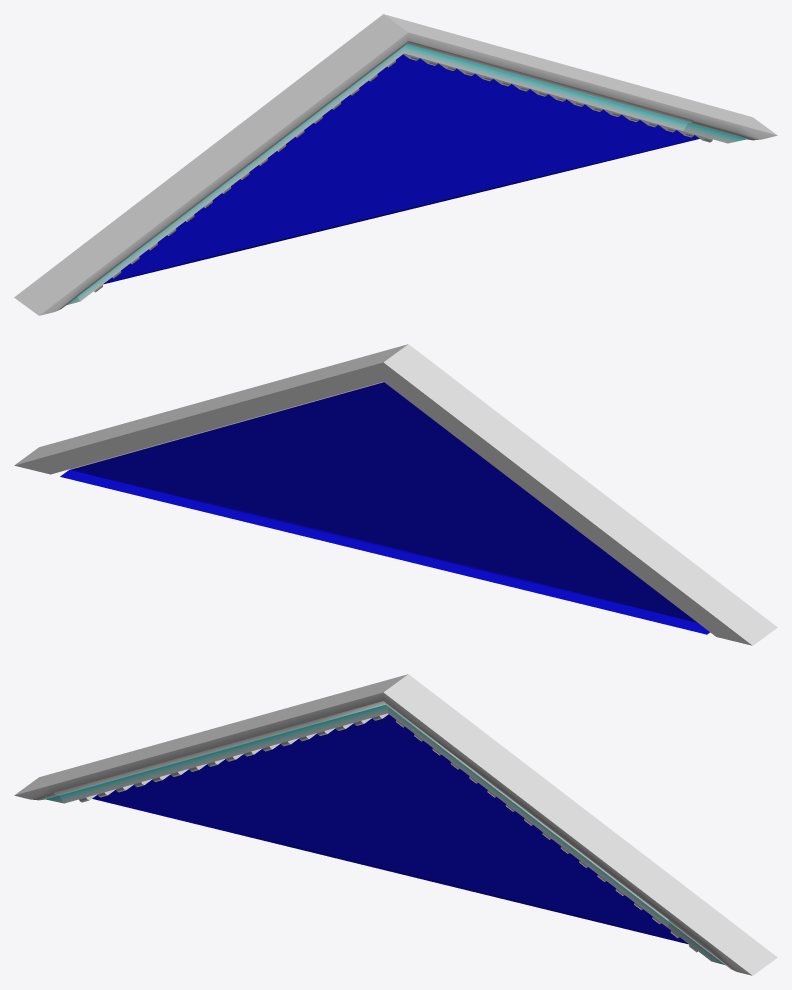
File: SM_RoofEnd16m.fbx
The picture shows the model from 3 angles, top to bottom: view 1: azimuth 30°, elevation 25°; view 2: azimuth 150°, elevation 25°; view 3: azimuth 330°, elevation 25°; orthographic projection.
Parts seen in each view (by area): view 1: SM_RoofEnd16m; view 2: SM_RoofEnd16m; view 3: SM_RoofEnd16m.
Boxes of the visible parts, x1=… form: SM_RoofEnd16m: x1=14, y1=14, x2=777, y2=315; SM_RoofEnd16m: x1=14, y1=344, x2=777, y2=645; SM_RoofEnd16m: x1=14, y1=674, x2=777, y2=975.
Size of the model in its own units: 1804 by 451 by 106.
